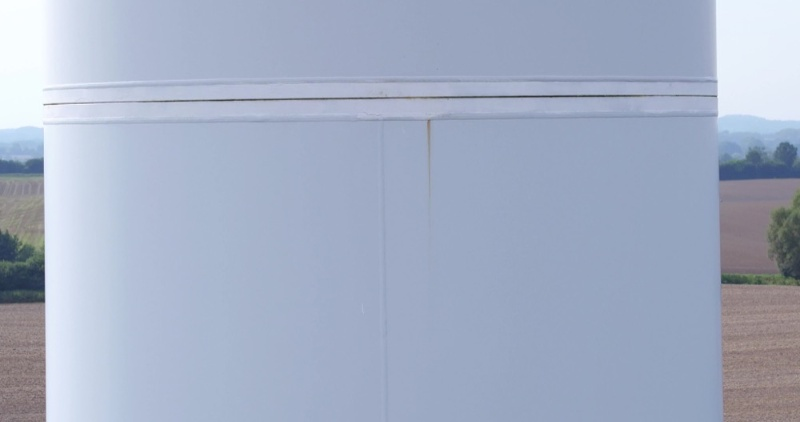weldseam: (40, 108, 720, 128), (38, 70, 722, 87), (374, 110, 393, 422)
